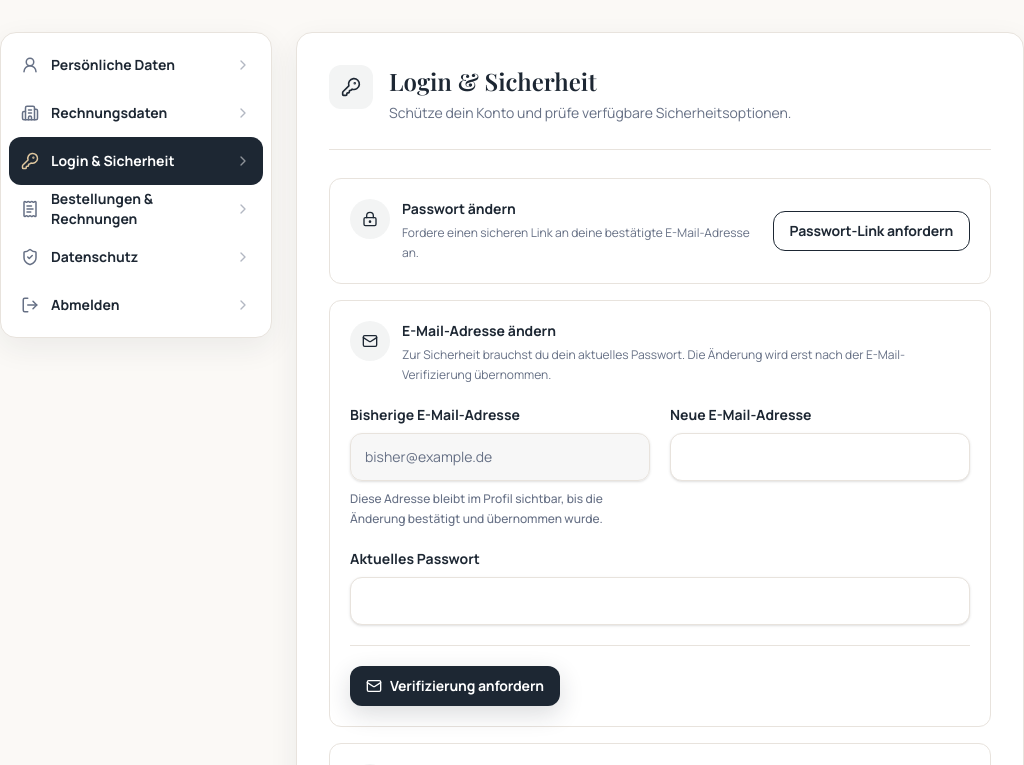
Test: Profil-Sicherheit › startet die E-Mail-Änderung mit aktuellem Passwort und lässt die bisherige Adresse sichtbar
Expected: the field labelled "Bisherige E-Mail-Adresse" is disabled, [350,433,650,481]
Expected: the field labelled "Bisherige E-Mail-Adresse" holds "bisher@example.de", [350,433,650,481]
Type "neu@example.de" into the field labelled "Neue E-Mail-Adresse" at (820, 457), box [670,433,970,481]
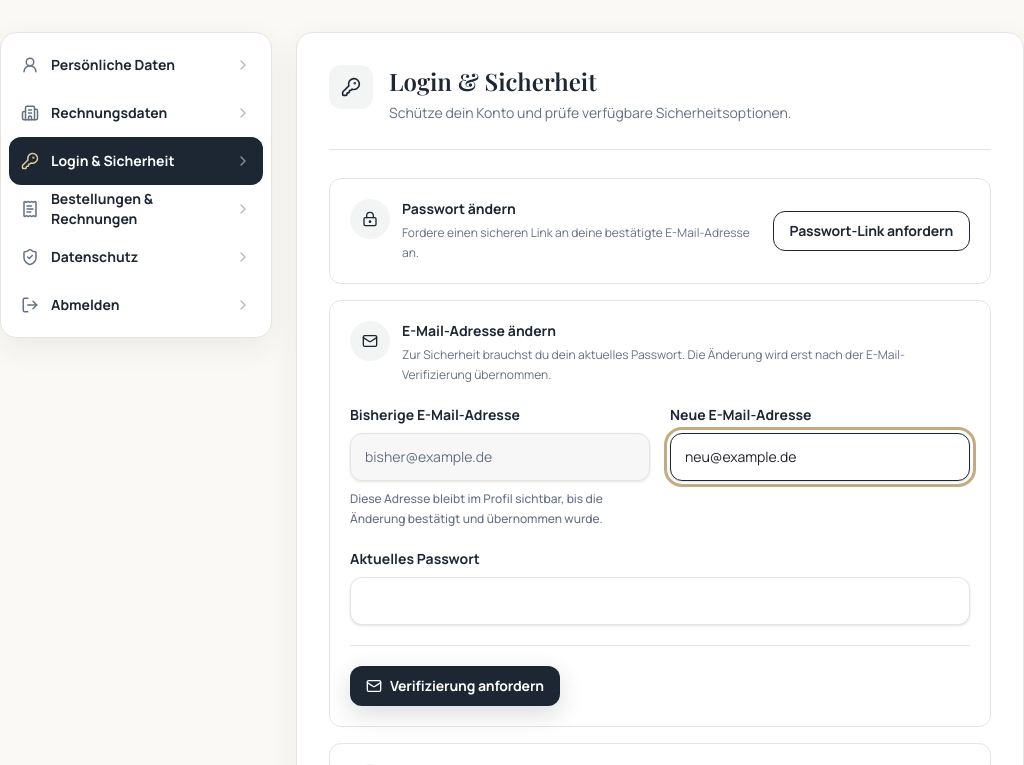
Type "Sicheres-Passwort-123" into the password field labelled "Aktuelles Passwort" at (660, 601), box [350,577,970,625]
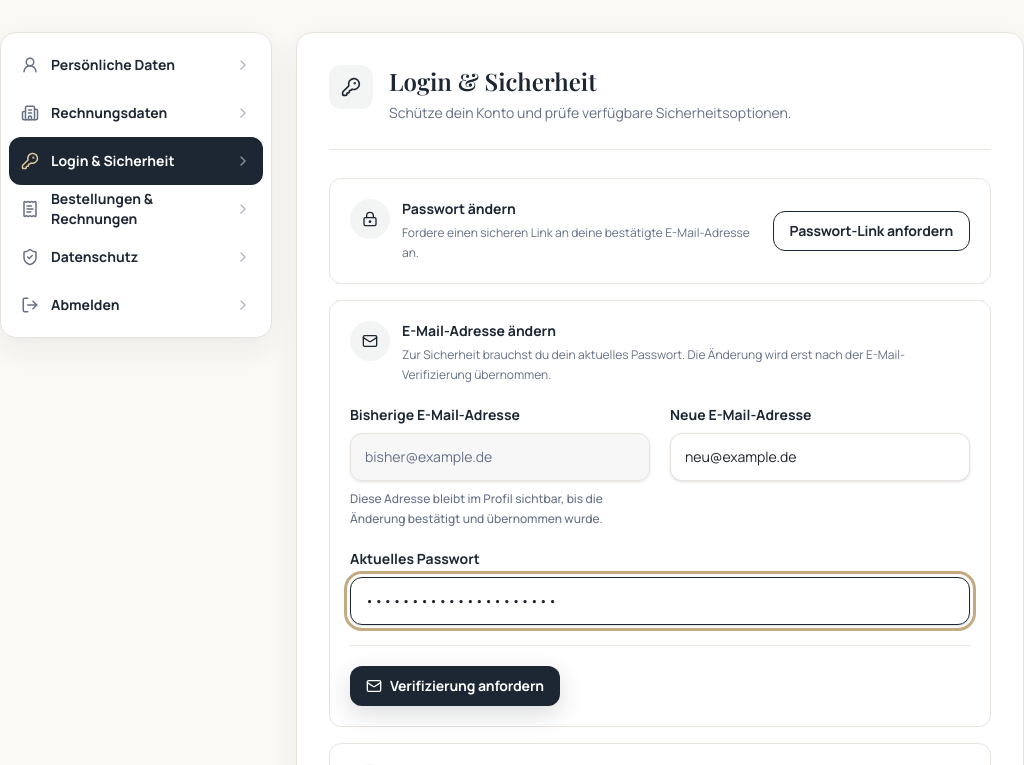
Click the button "Verifizierung anfordern" at (455, 686), box [350,666,560,706]
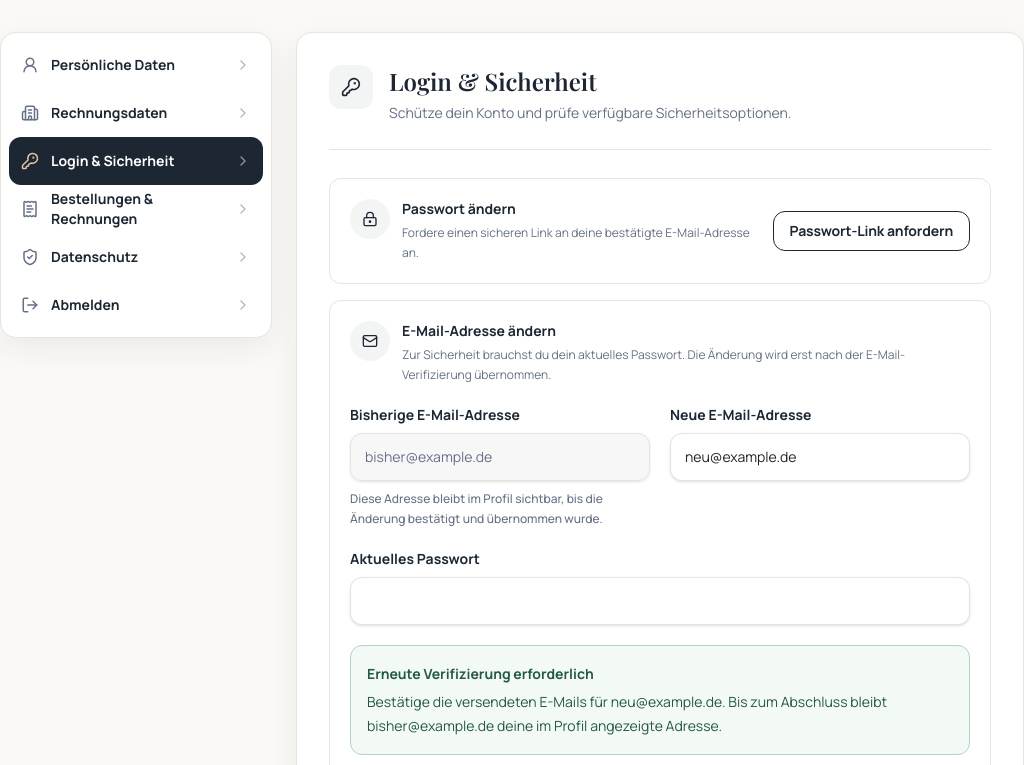
Expected: the field labelled "Bisherige E-Mail-Adresse" holds "bisher@example.de", [350,433,650,481]
Expected: the text "Erneute Verifizierung erforderlich" is shown, [367,664,594,683]
Expected: the text "neu@example.de" is shown, [611,692,722,711]
